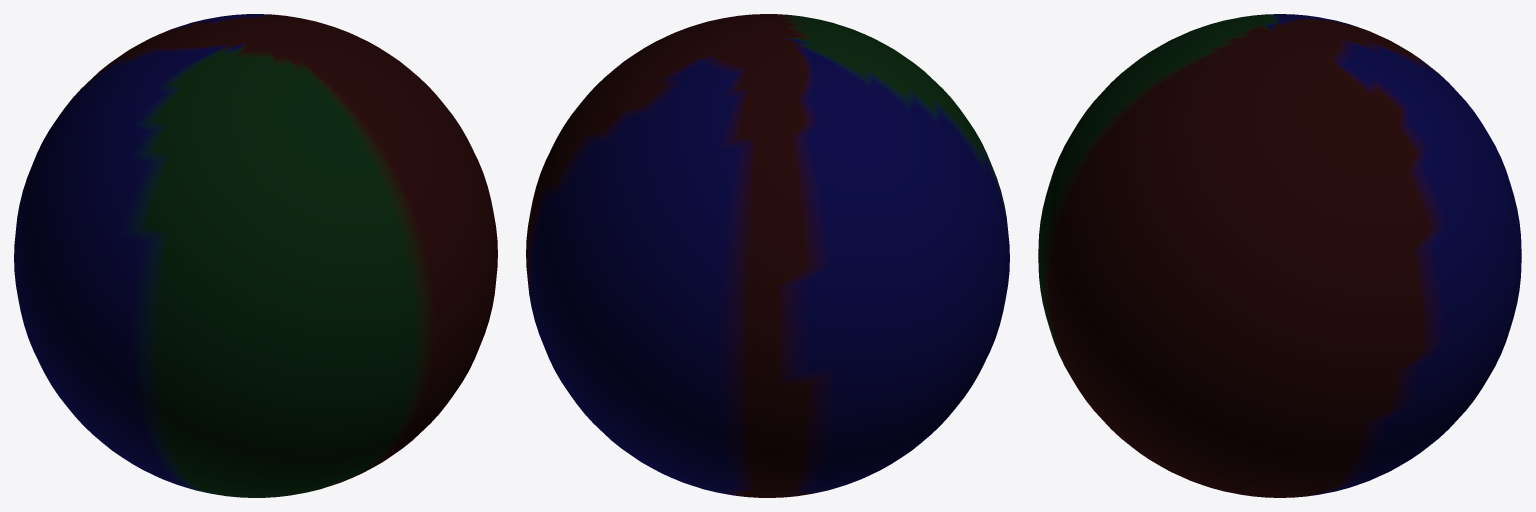
File: vertexshader_test.fbx
3 views of the same model, side by side, from view 1: azimuth 30°, elevation 25°; view 2: azimuth 150°, elevation 25°; view 3: azimuth 270°, elevation 25° (orthographic).
Parts seen in each view (by area): view 1: pSphere1; view 2: pSphere1; view 3: pSphere1.
Part boxes in pixels (<box>): pSphere1: <box>14,14,497,497</box>; pSphere1: <box>526,14,1009,497</box>; pSphere1: <box>1038,14,1521,497</box>.
Bounding box in the file's own units: 4218 × 4218 × 4209.
